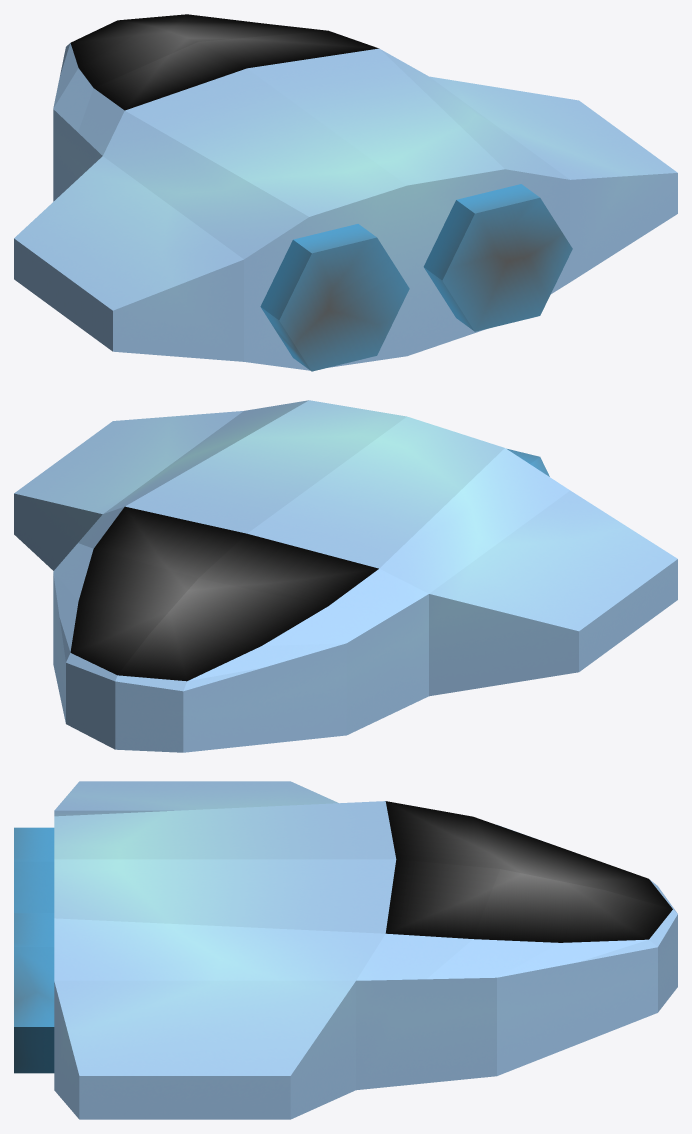
Rendered from Ship.fbx.
3 renders of one model, top to bottom at view 1: azimuth 30°, elevation 25°; view 2: azimuth 150°, elevation 25°; view 3: azimuth 270°, elevation 25°, orthographic. The views are drawn at different scales.
Visible parts, largest first — view 1: Ship; view 2: Ship; view 3: Ship.
Part boxes in pixels (left/top/right/bottom): Ship: left=14, top=14, right=677, bottom=371; Ship: left=14, top=400, right=677, bottom=752; Ship: left=14, top=781, right=677, bottom=1119.
Size of the model in its own units: 104 by 99 by 30.
